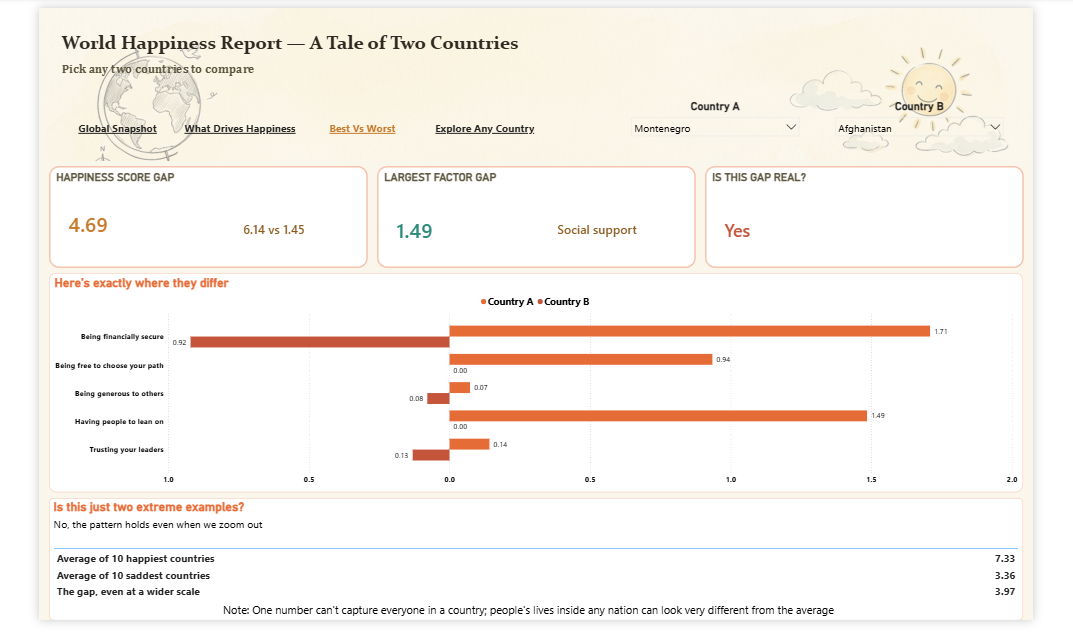

The dashboard page shown, as its layout file describes it:
{"tool":"powerbi","page":{"name":"Best Vs Worst","canvas":[1950,1200],"ordinal":2},"visuals":[{"type":"image","box":[0,0,1950,300],"z":0},{"type":"textbox","box":[40,40,950,90],"z":1000},{"type":"textbox","box":[40,100,560,60],"z":2000},{"type":"cardVisual","title":"HAPPINESS SCORE GAP","fields":{"Data":["_Measures.ScoreGap"]},"box":[20,310,625,200],"z":3000},{"type":"cardVisual","title":"LARGEST FACTOR GAP","fields":{"Data":["_Measures.LargestFactorGap"]},"box":[662,310,625,200],"z":4000},{"type":"cardVisual","title":"IS THIS GAP REAL?","fields":{"Data":["_Measures.GapIsReal"]},"box":[1305,310,625,200],"z":5000},{"type":"pageNavigator","box":[40,210,950,50],"z":6000},{"type":"slicer","title":"Country B","fields":{"Values":["CountrySelectorB.Country"]},"box":[1550,180,350,80],"z":7000},{"type":"slicer","title":"Country A","fields":{"Values":["CountrySelectorA.Country"]},"box":[1150,180,350,80],"z":8000},{"type":"clusteredBarChart","title":"Here''s exactly where they differ","fields":{"Category":["FactorLabels.Label"],"Y":["_Measures.ButterflyA","_Measures.ButterflyB"]},"box":[20,520,1910,430],"z":9000},{"type":"cardVisual","fields":{"Data":["_Measures.LargestFactorName"]},"box":[940,385,310,95],"z":10000},{"type":"cardVisual","fields":{"Data":["_Measures.ScoreGapSubtitle"]},"box":[305,385,310,95],"z":11000},{"type":"tableEx","title":"Is this just two extreme examples?","fields":{"Values":["RealityCheckLabels.Labels","_Measures.RealityCheckValue"]},"box":[20,960,1910,240],"z":12000},{"type":"textbox","box":[20,1160,1880,40],"z":13000}]}

Visuals, with their boxes on the page's 1950x1200 design canvas (x1, y1, x2, y2). These are canvas units, not pixel positions in the 1073x633 screenshot, which may show the page scaled, cropped or inside an application window:
image: [0,0,1950,300]
textbox: [40,40,990,130]
textbox: [40,100,600,160]
"HAPPINESS SCORE GAP" cardVisual: [20,310,645,510]
"LARGEST FACTOR GAP" cardVisual: [662,310,1287,510]
"IS THIS GAP REAL?" cardVisual: [1305,310,1930,510]
pageNavigator: [40,210,990,260]
"Country B" slicer: [1550,180,1900,260]
"Country A" slicer: [1150,180,1500,260]
"Here''s exactly where they differ" clusteredBarChart: [20,520,1930,950]
cardVisual - _Measures.LargestFactorName: [940,385,1250,480]
cardVisual - _Measures.ScoreGapSubtitle: [305,385,615,480]
"Is this just two extreme examples?" tableEx: [20,960,1930,1200]
textbox: [20,1160,1900,1200]
